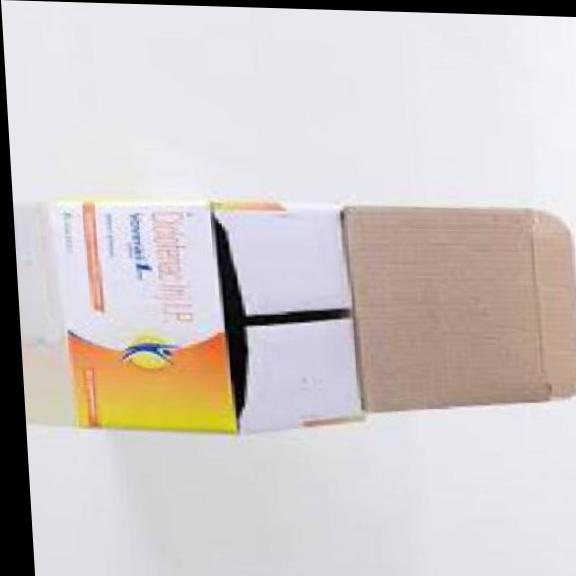Kertas: (54, 199, 576, 432)
